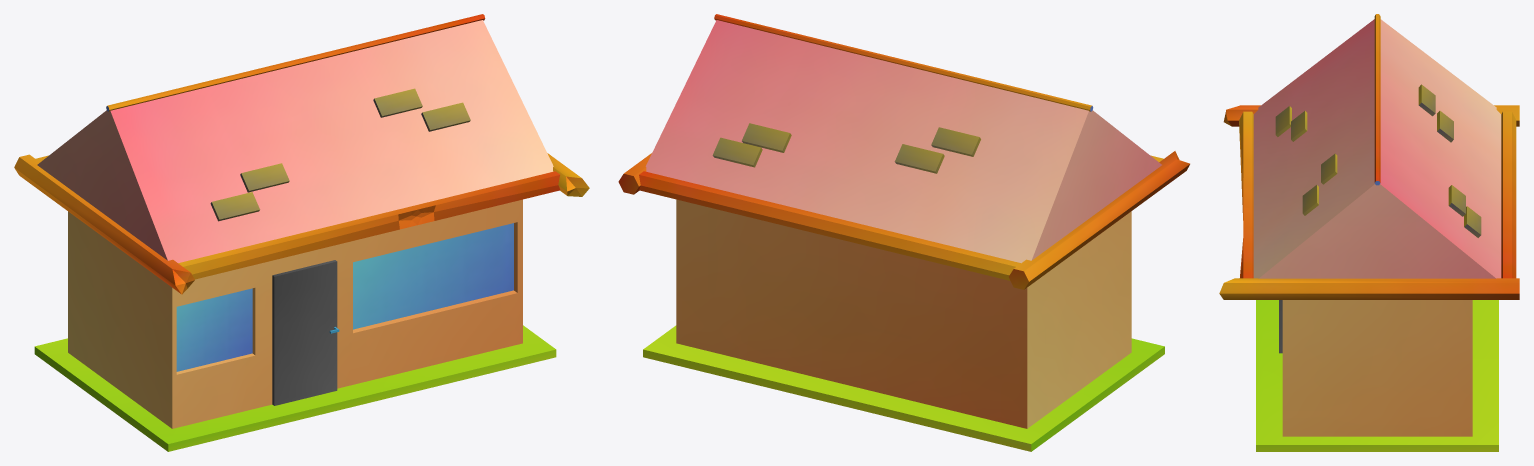
The model's file is House_12.fbx.
The picture shows the model from 3 angles, left to right: view 1: azimuth 30°, elevation 25°; view 2: azimuth 150°, elevation 25°; view 3: azimuth 270°, elevation 25°; orthographic projection. The views are drawn at different scales.
Visible parts, largest first — view 1: House.12; view 2: House.12; view 3: House.12.
Part boxes in pixels (x1=…): House.12: x1=14, y1=14, x2=589, y2=451; House.12: x1=618, y1=14, x2=1189, y2=451; House.12: x1=1219, y1=14, x2=1519, y2=451.
Size of the model in its own units: 720 by 495 by 501.
Materials: 1 (1 with a texture image).
